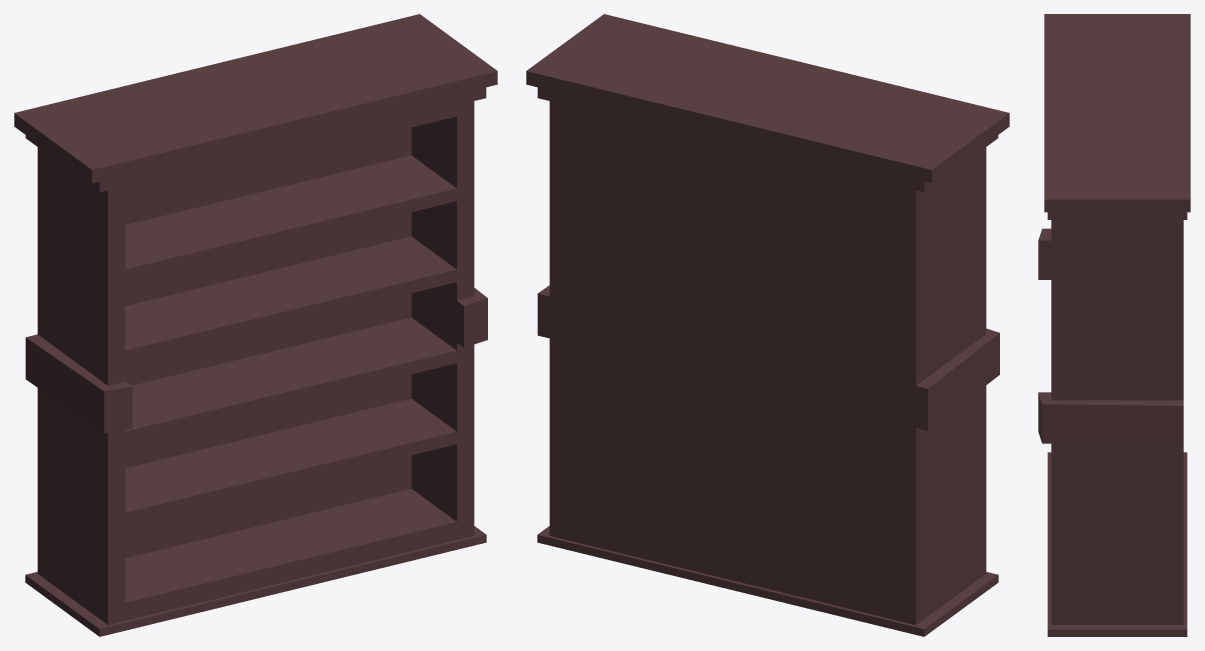
File: bookshelf.fbx
The picture shows the model from 3 angles, left to right: view 1: azimuth 30°, elevation 25°; view 2: azimuth 150°, elevation 25°; view 3: azimuth 270°, elevation 25°; orthographic projection. The views are drawn at different scales.
Visible parts, largest first — view 1: Cube.006; view 2: Cube.006; view 3: Cube.006.
Part boxes in pixels (<box>): Cube.006: <box>14,14,497,636</box>; Cube.006: <box>526,14,1009,636</box>; Cube.006: <box>1038,14,1190,636</box>.
Size of the model in its own units: 2.22 by 2.46 by 0.7678.
